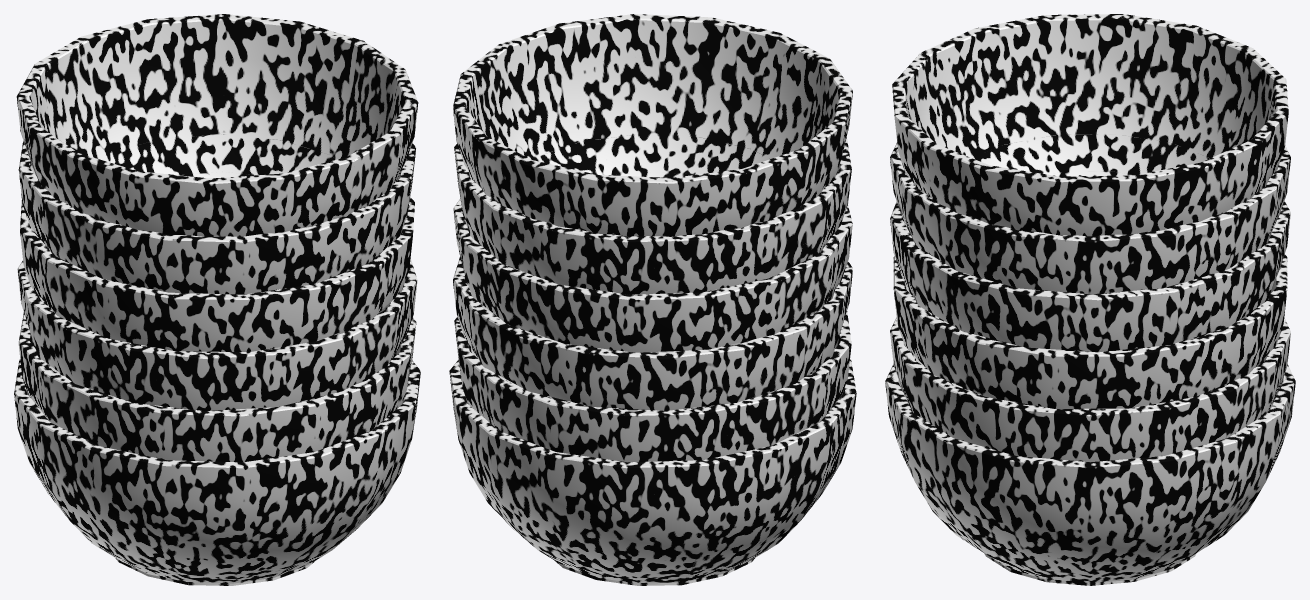
The model's file is MC_FlatBowlSpawner.fbx.
3 views of the same model, side by side, from view 1: azimuth 30°, elevation 25°; view 2: azimuth 150°, elevation 25°; view 3: azimuth 270°, elevation 25° (orthographic).
Parts seen in each view (by area): view 1: Sphere.001; view 2: Sphere.001; view 3: Sphere.001.
Part boxes in pixels (left/top/right/bottom): Sphere.001: left=14, top=14, right=420, bottom=585; Sphere.001: left=449, top=14, right=856, bottom=585; Sphere.001: left=885, top=14, right=1295, bottom=585.
Size of the model in its own units: 200 by 237 by 200.
1 material, 1 textured.
